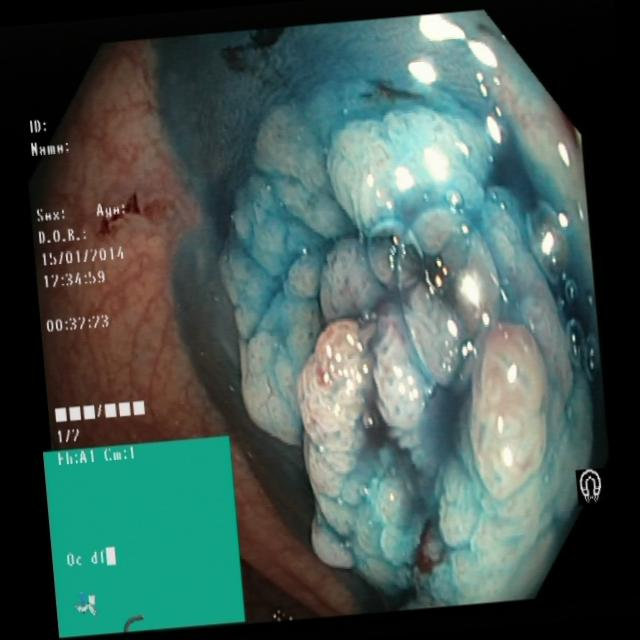dyed-lifted-polyps: (218, 63, 599, 604)
